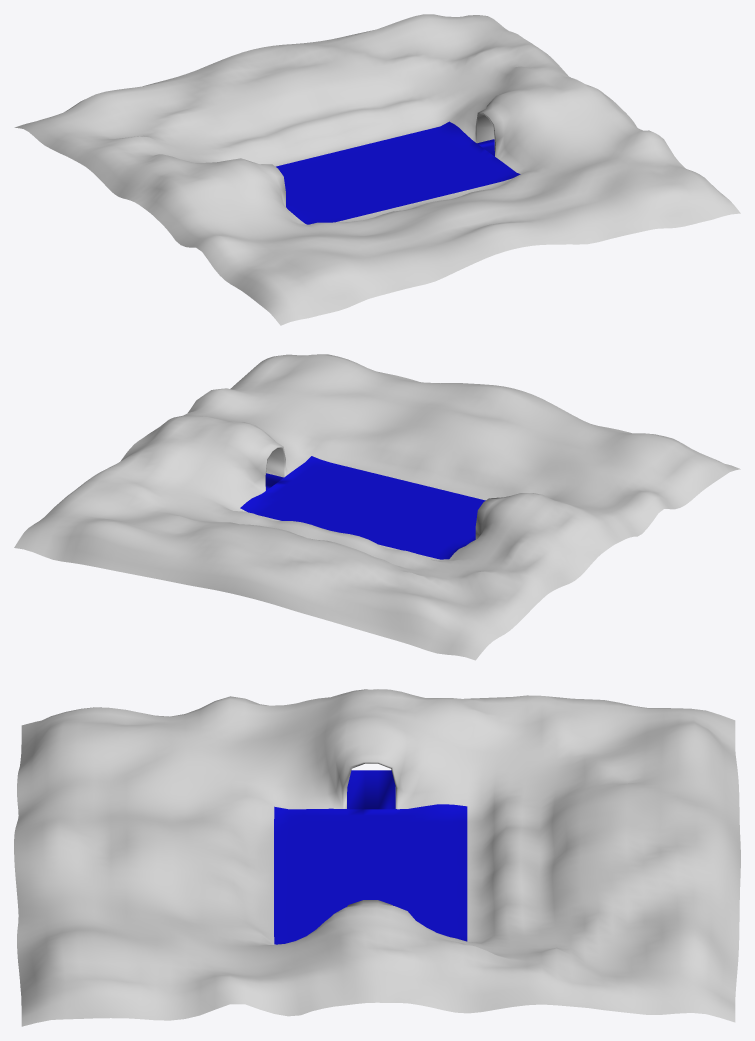
File: terrain.fbx
3 renders of one model, top to bottom at view 1: azimuth 30°, elevation 25°; view 2: azimuth 150°, elevation 25°; view 3: azimuth 270°, elevation 25°, orthographic. The views are drawn at different scales.
Parts seen in each view (by area): view 1: Terrain; view 2: Terrain; view 3: Terrain.
Part boxes in pixels (x1,y1,x2,y2): Terrain: (14,14,740,325); Terrain: (14,354,740,660); Terrain: (14,689,740,1026).
Bounding box in the file's own units: 203 × 19.69 × 204.
